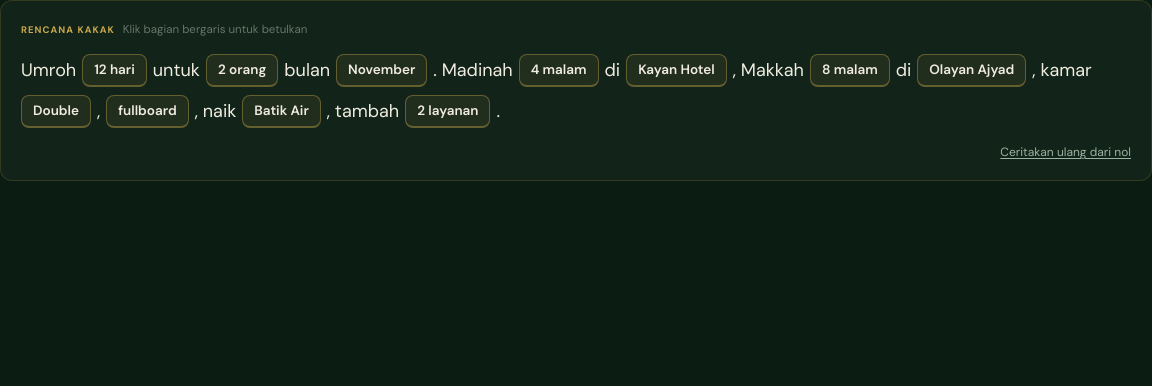
Test case: SentenceCard › closes an already-open field when its chip is clicked again
Click the button with aria-label "Bulan: November, klik untuk ubah" at [382, 71], box left=336, top=54, right=427, bottom=87
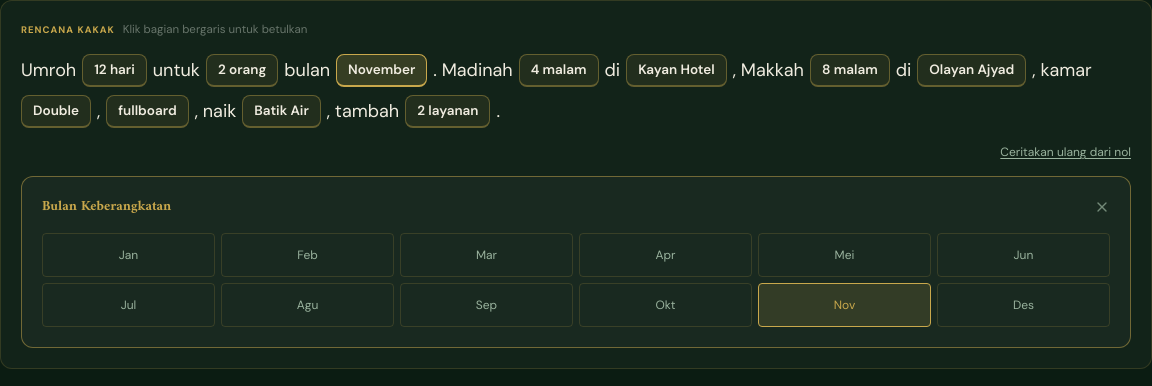
Result: the heading "Bulan Keberangkatan" is shown at left=42, top=197, right=171, bottom=217
Click the button with aria-label "Bulan: November, klik untuk ubah" at [382, 71], box left=336, top=54, right=427, bottom=87
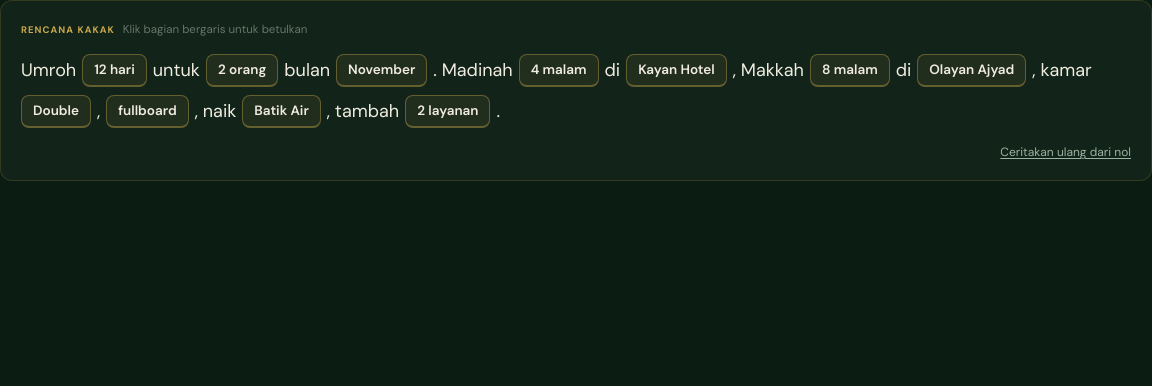
Result: the heading "Bulan Keberangkatan" is gone
